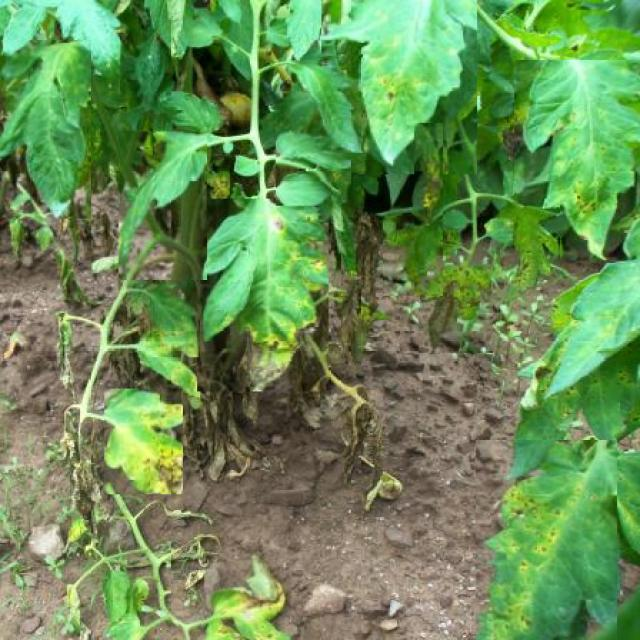Septoria: (476, 440, 617, 640), (321, 0, 477, 174), (197, 198, 329, 392), (514, 60, 640, 262), (0, 40, 90, 219), (119, 132, 207, 280), (104, 389, 183, 494), (202, 550, 292, 640), (291, 54, 363, 153), (418, 261, 493, 353), (502, 198, 560, 308), (384, 216, 444, 296), (137, 326, 200, 398), (146, 282, 201, 357), (276, 127, 351, 169), (414, 123, 443, 226), (276, 171, 333, 206)
